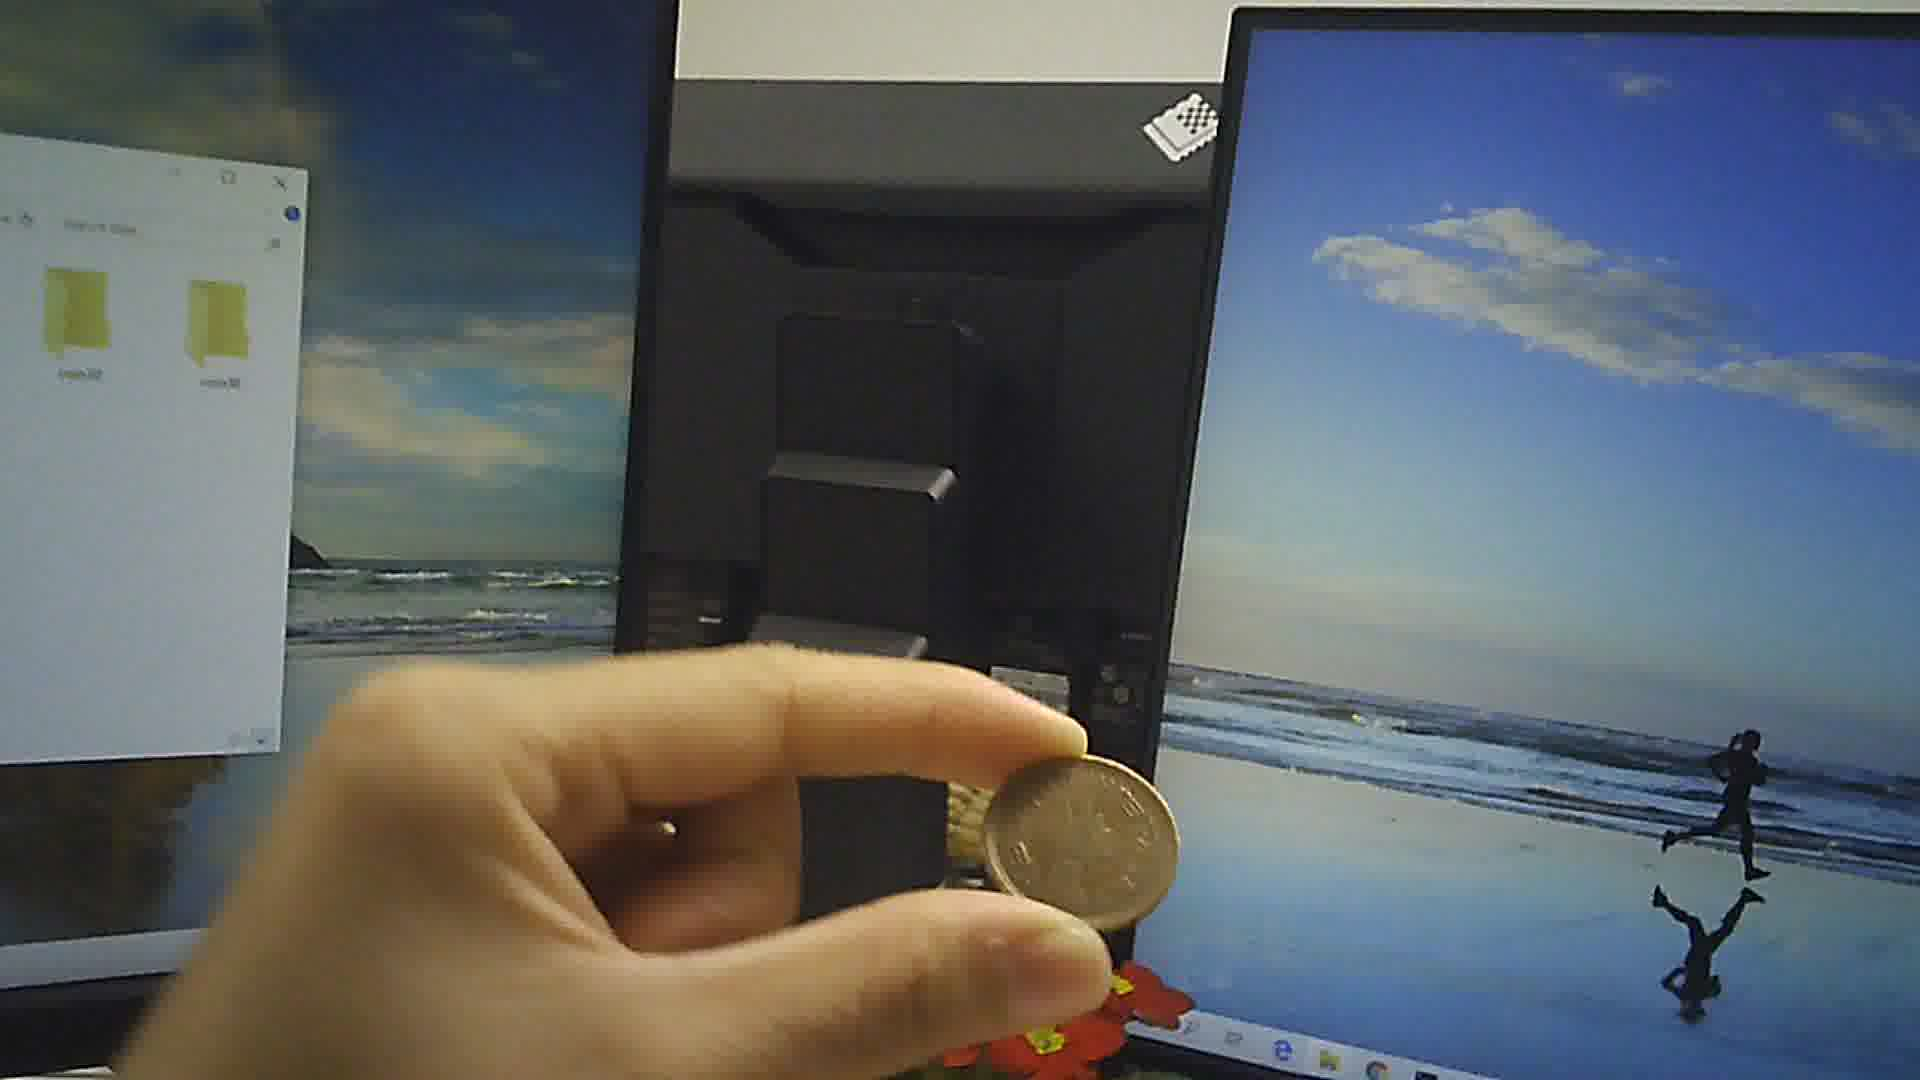10 Yen: (978, 738, 1174, 920)
